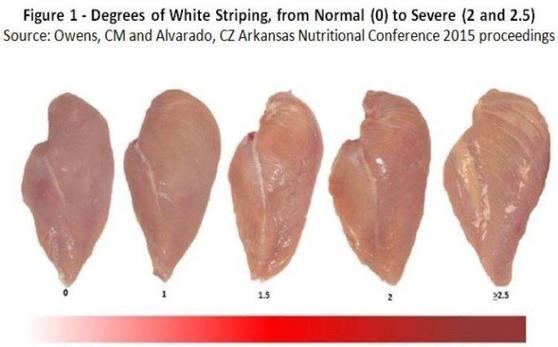chicken_fillet: (120, 82, 224, 299), (444, 88, 553, 294), (324, 88, 430, 293), (29, 91, 115, 300), (232, 88, 321, 287)
